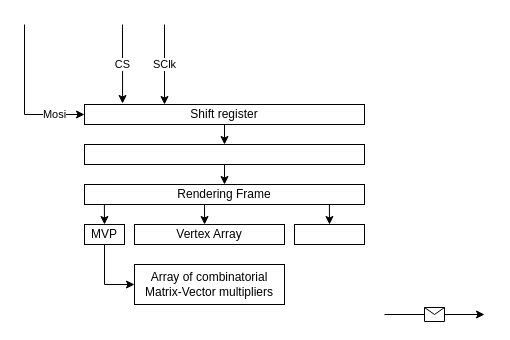
Some shapes in this 510 by 340 pixel diagram are drawn without their labels. The shapes that lost their labels are listed below. From the top down, each one's box as (x1, y1, x2, y2) in pixels, then its label:
(84, 144, 364, 164): Last recived frame
(294, 224, 364, 244): Line Array
